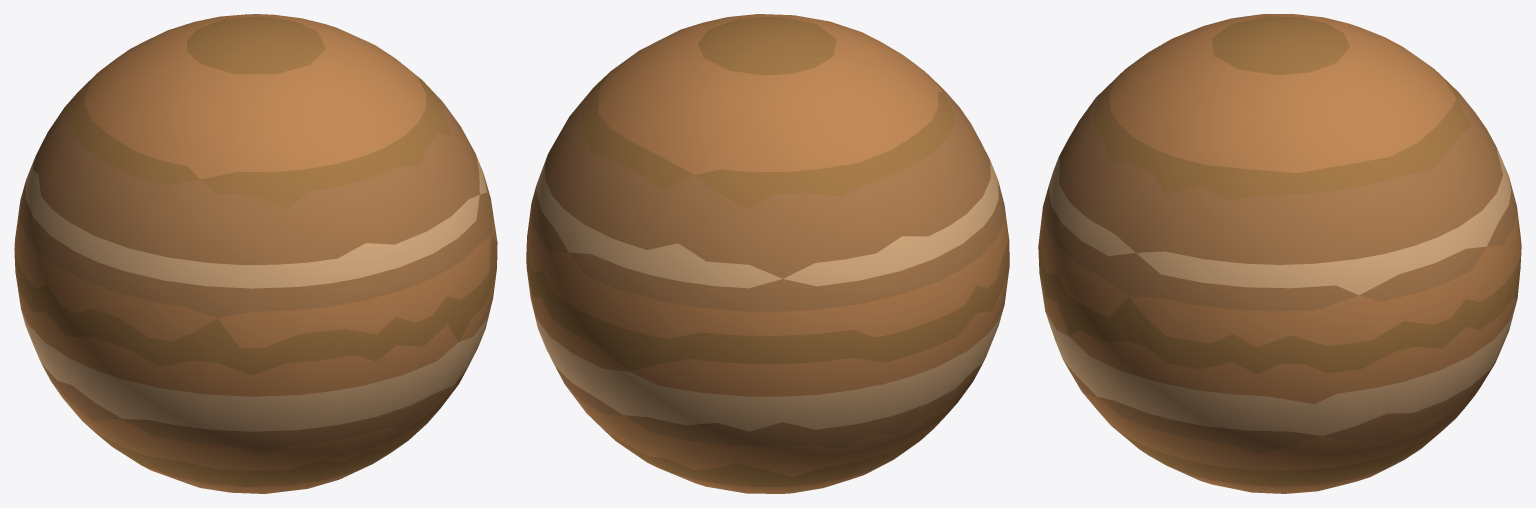
File: planet-6.glb
3 renders of one model, left to right at view 1: azimuth 30°, elevation 25°; view 2: azimuth 150°, elevation 25°; view 3: azimuth 270°, elevation 25°, orthographic.
Visible parts, largest first — view 1: Planet_6; view 2: Planet_6; view 3: Planet_6.
Part boxes in pixels (box(x1,y1,x2,y2)): Planet_6: box(14, 14, 497, 493); Planet_6: box(526, 14, 1009, 493); Planet_6: box(1038, 14, 1521, 493).
Size of the model in its own units: 3.76 by 3.75 by 3.76.
1 material, 1 textured.
